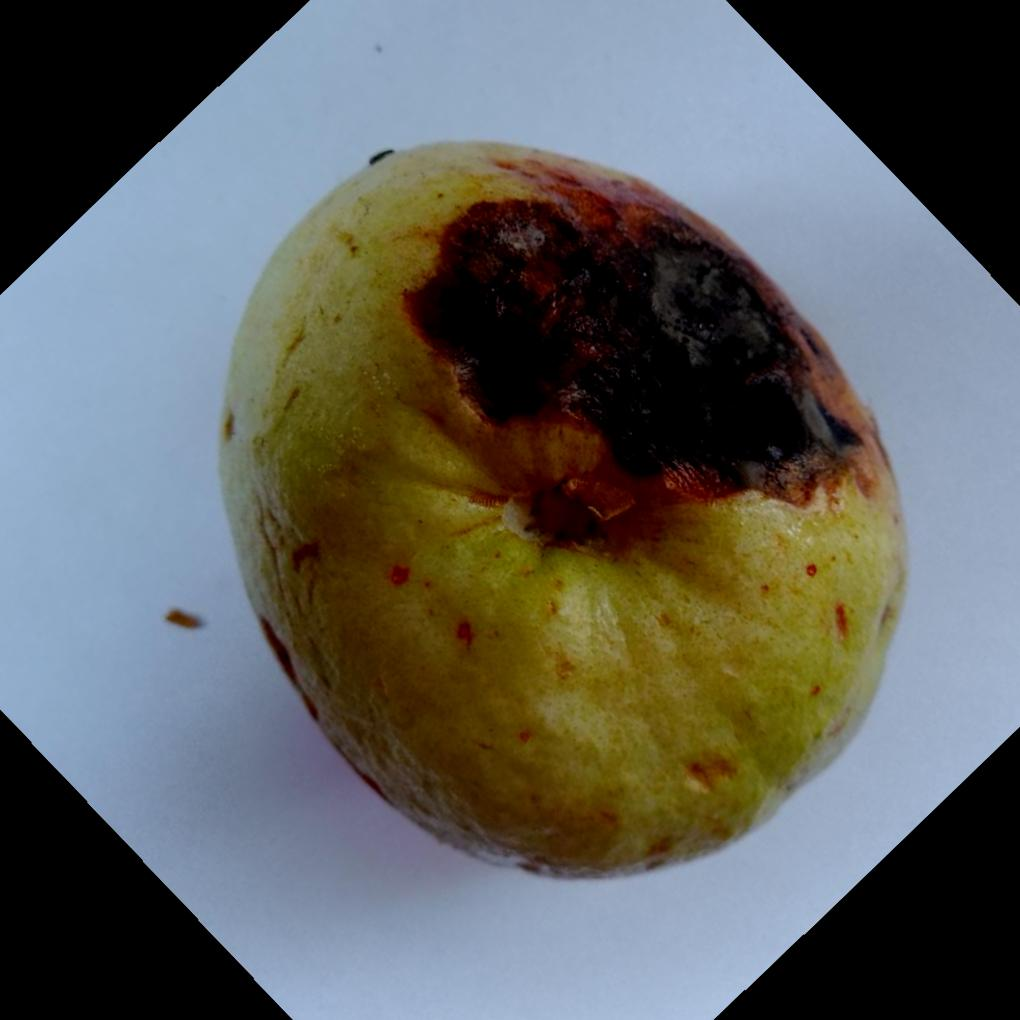FreshOrange: (218, 135, 912, 880)
